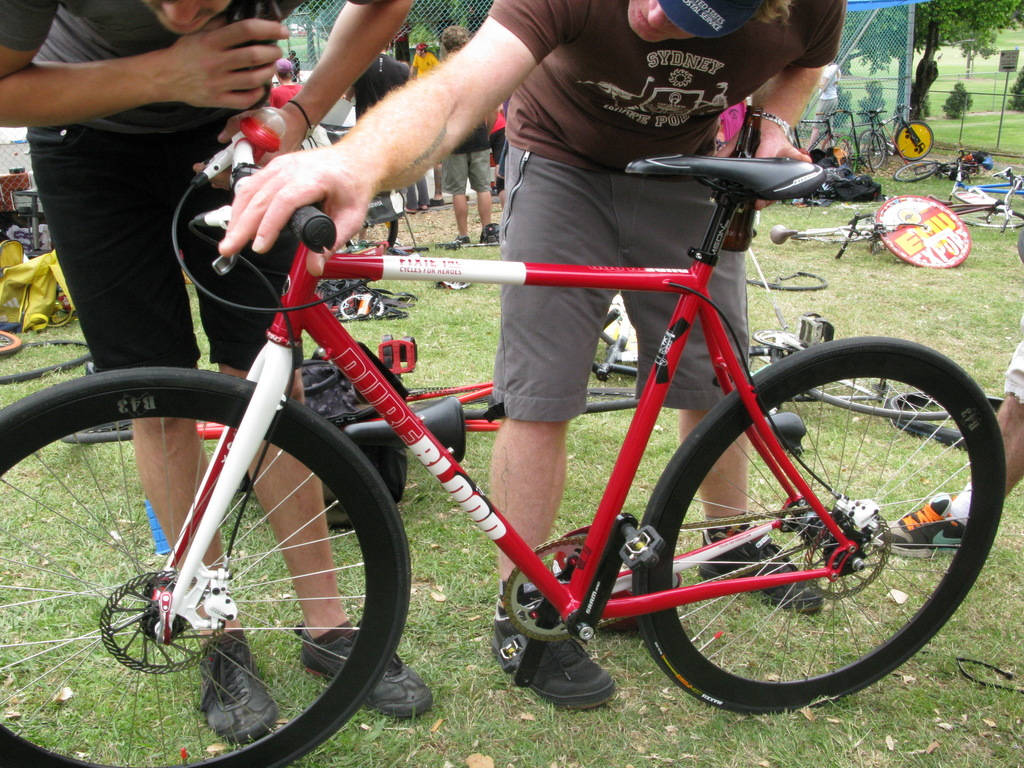Bike_toward: (88, 146, 988, 694)
